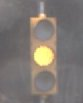Yellow: (25, 14, 62, 103)
